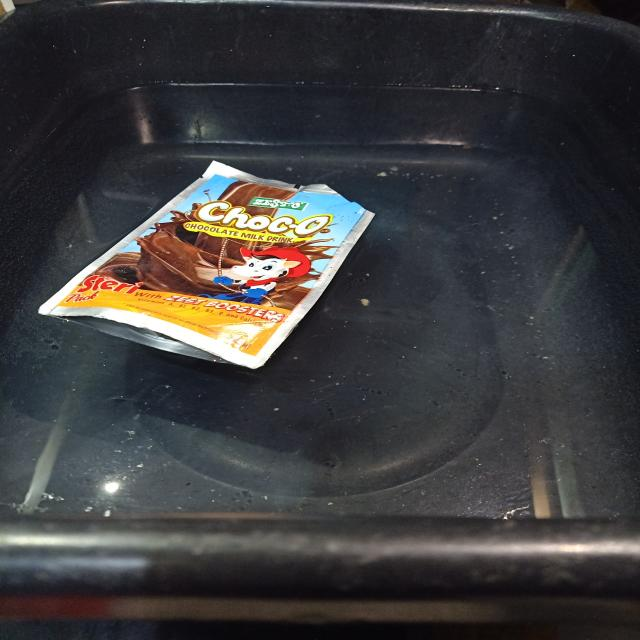Plastic Pouch: (39, 161, 374, 368)
